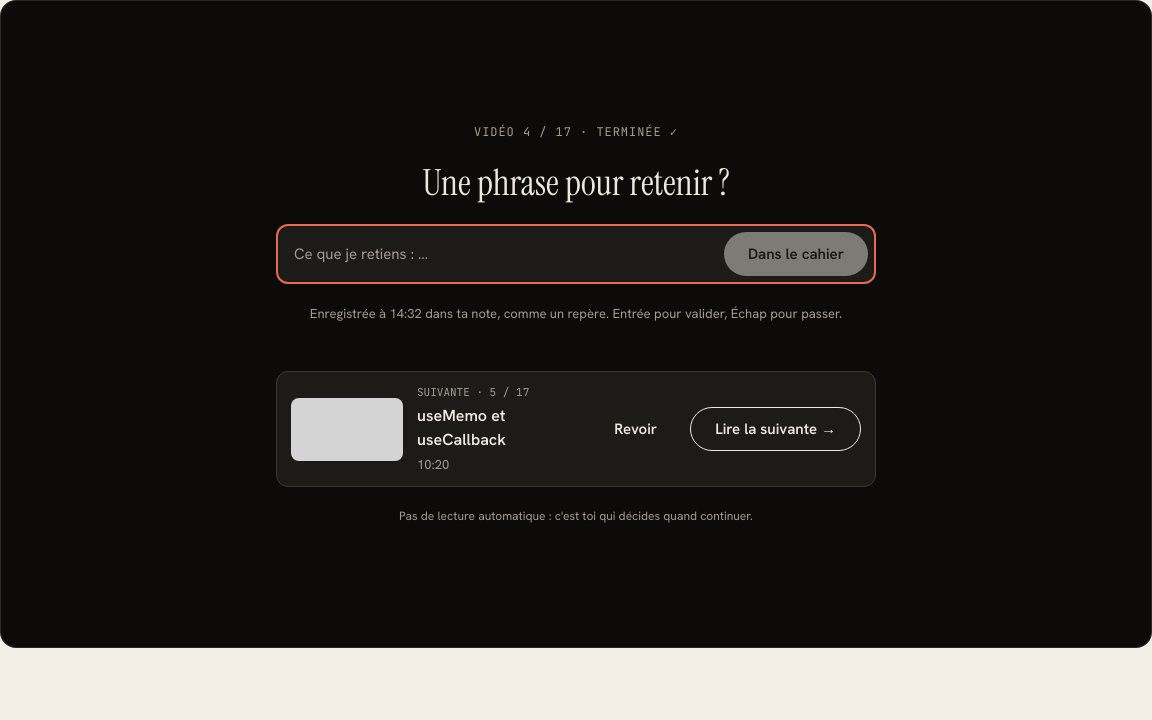
EndCard (YC-60, Figma « Fin de vidéo » 102:168) › says it when the server refuses
In the field named "Une phrase pour retenir": (504, 254) [294,243,714,265], type "Retenu"
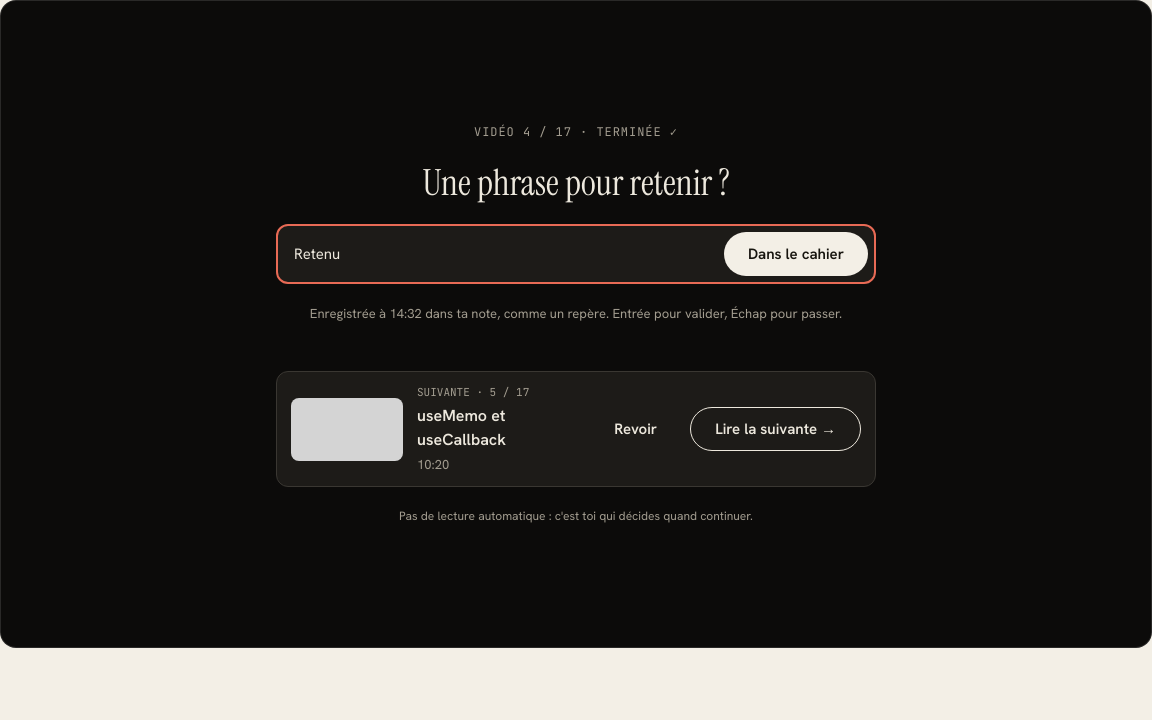
Submit the form from the field named "Une phrase pour retenir", box [294,243,714,265]
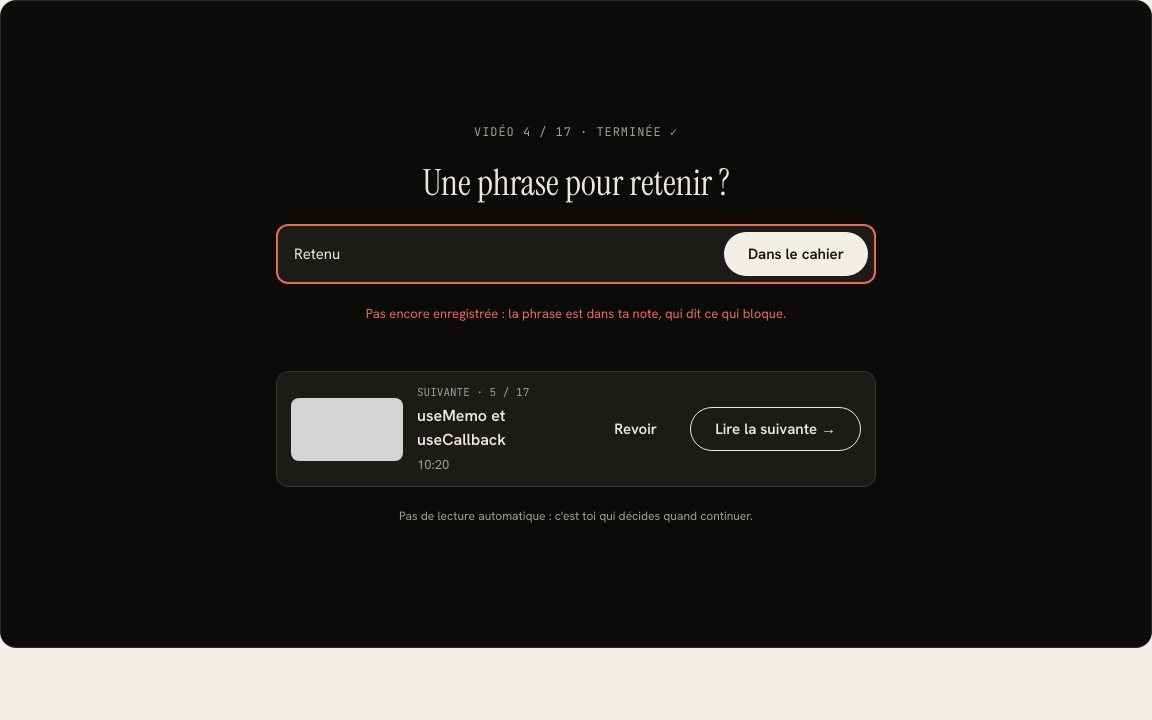
Check: the message shows "Pas encore enregistrée", box [366,305,786,322]
